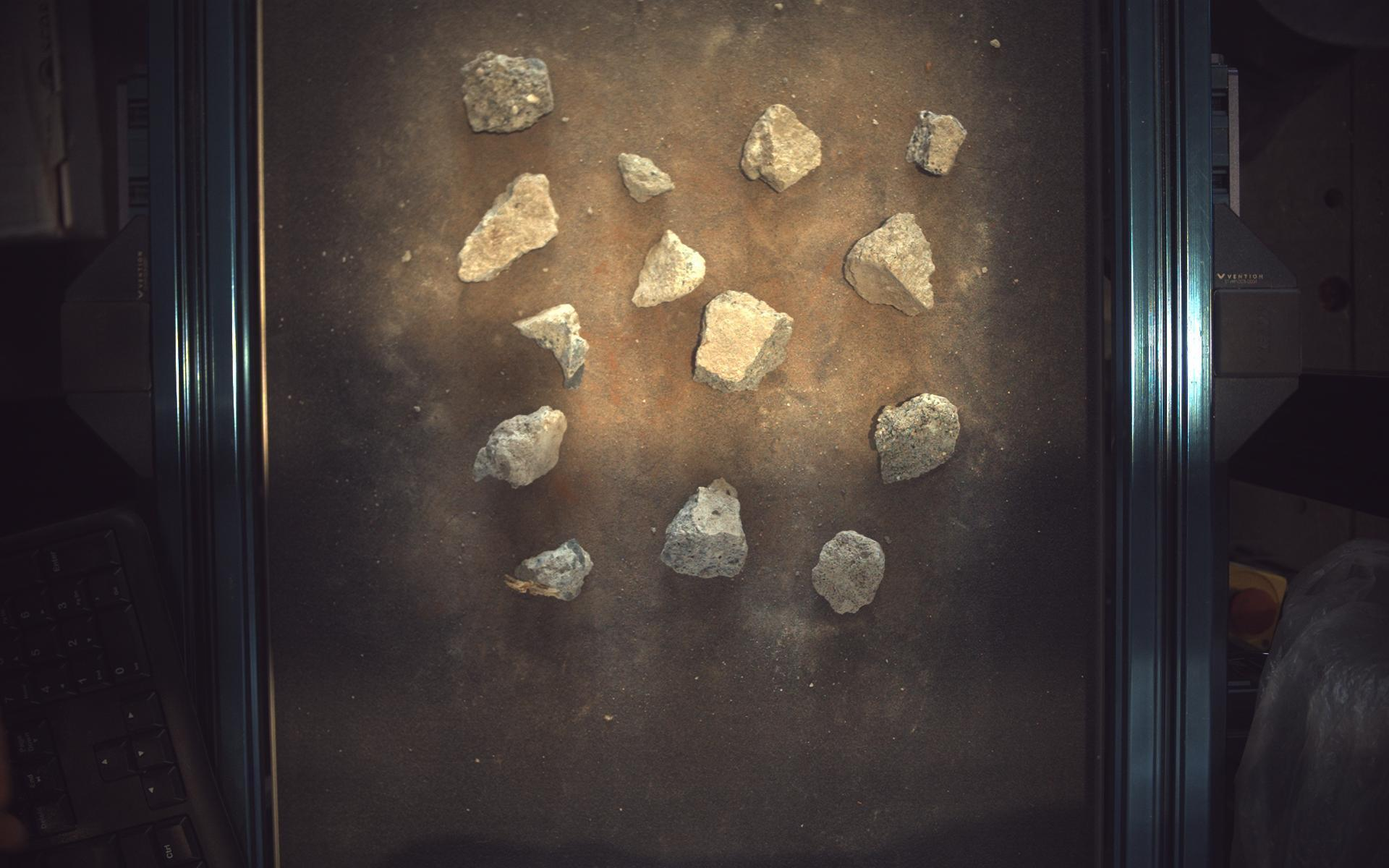concrete: (458, 172, 558, 281), (694, 290, 795, 392), (845, 212, 938, 315), (661, 478, 749, 579), (473, 405, 568, 488), (875, 393, 961, 484), (462, 50, 554, 132), (742, 102, 823, 191), (514, 304, 590, 389), (813, 531, 887, 614), (633, 229, 706, 307), (504, 539, 593, 601), (908, 109, 969, 175), (619, 152, 676, 202)
